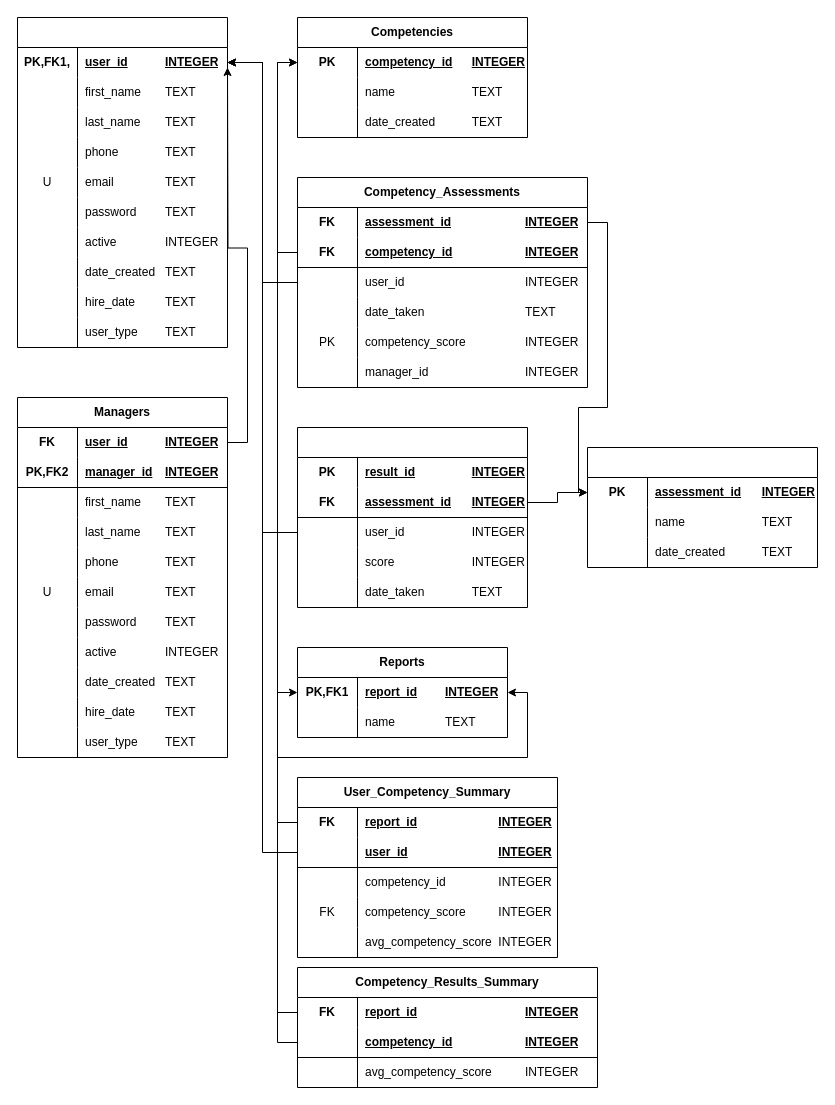
Some shapes in this 835 by 1105 pixel diagram are drawn without their labels. Each missing label, with the box of its shape:
Assessment_Results: (296, 426, 528, 608)
Assessments: (586, 446, 818, 568)
Users: (16, 16, 228, 348)
